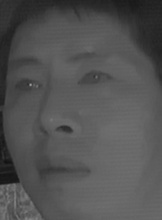eye: (75, 65, 111, 91), (11, 73, 43, 98)
mouth: (35, 148, 93, 194)
